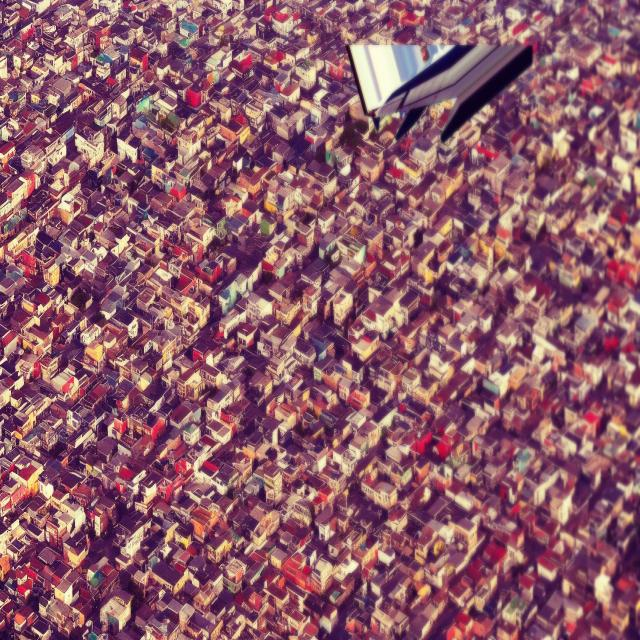airplane: (345, 39, 533, 144)
